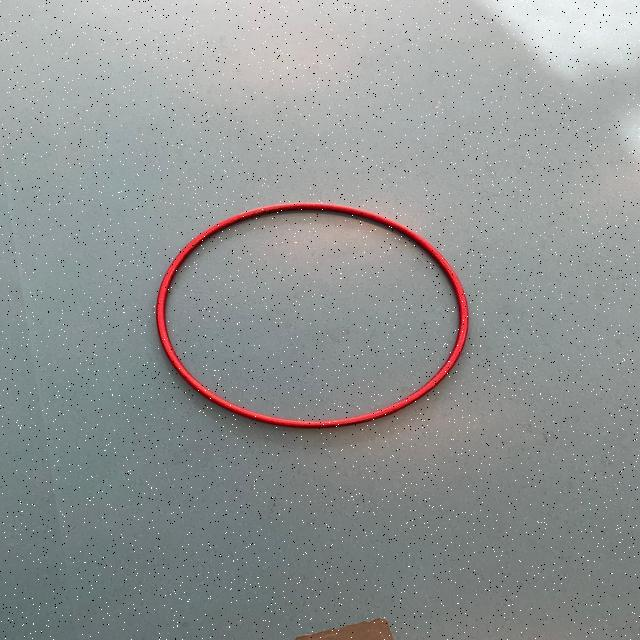Circle: (148, 198, 474, 432)
